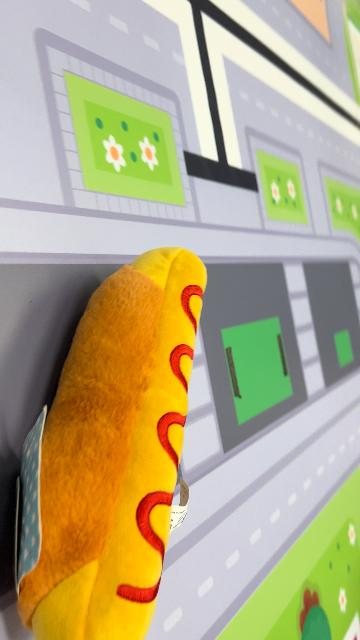hotdog: (15, 246, 209, 638)
